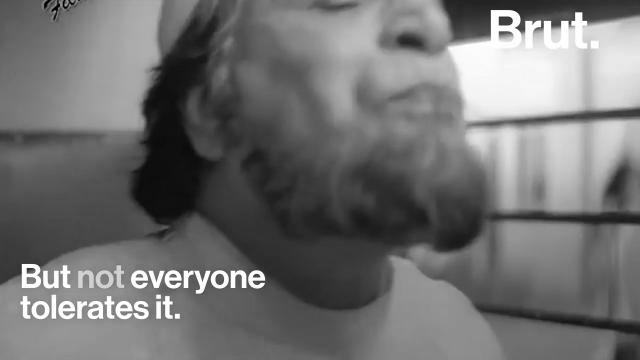spit: (409, 59, 627, 128)
